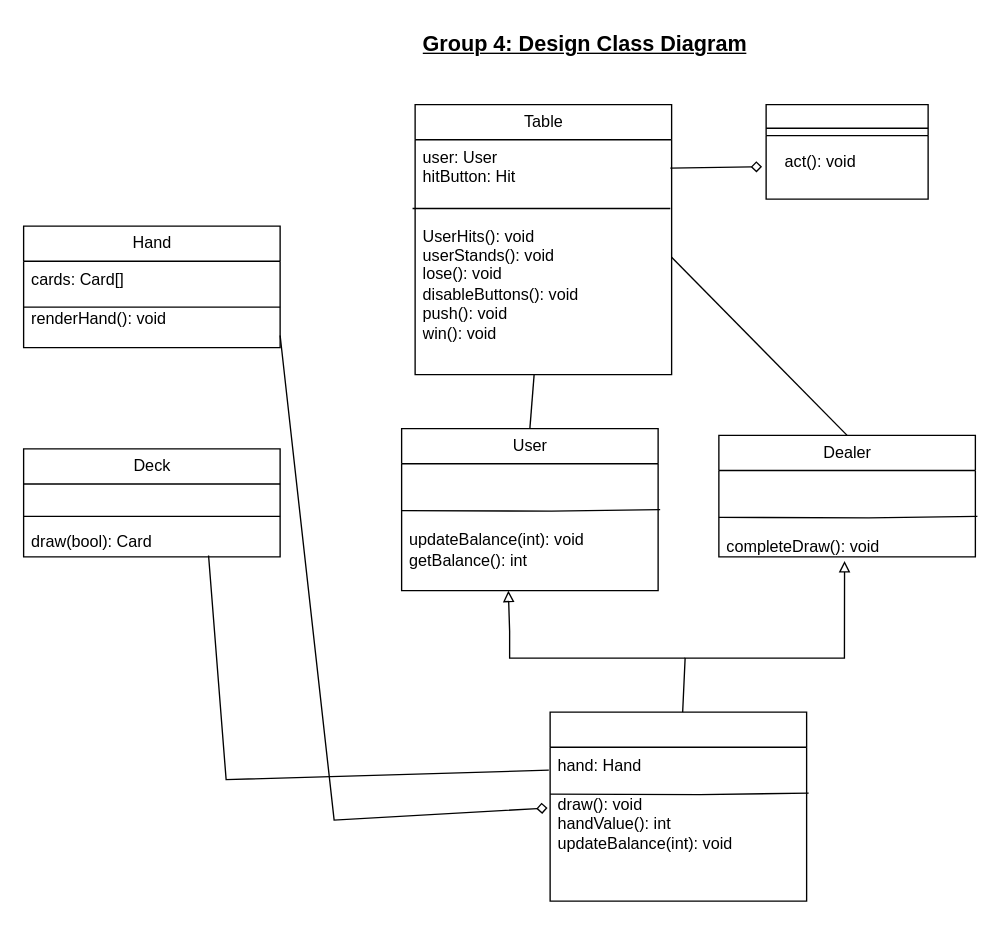
Image size: 1003x927. Some labels were removed from this diagram. The box of each missing label's shape, as (x1, y1, x2, y2) in pixels:
Hit: (765, 103, 928, 199)
Player: (549, 711, 807, 901)
